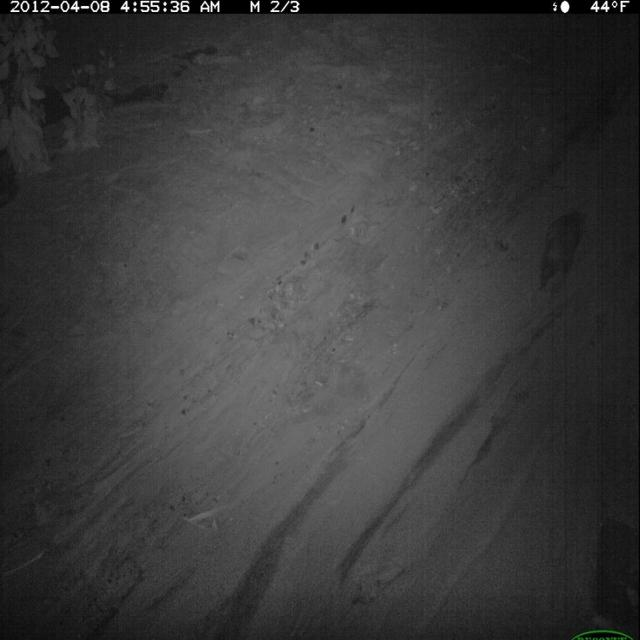opossum: (538, 205, 591, 299)
